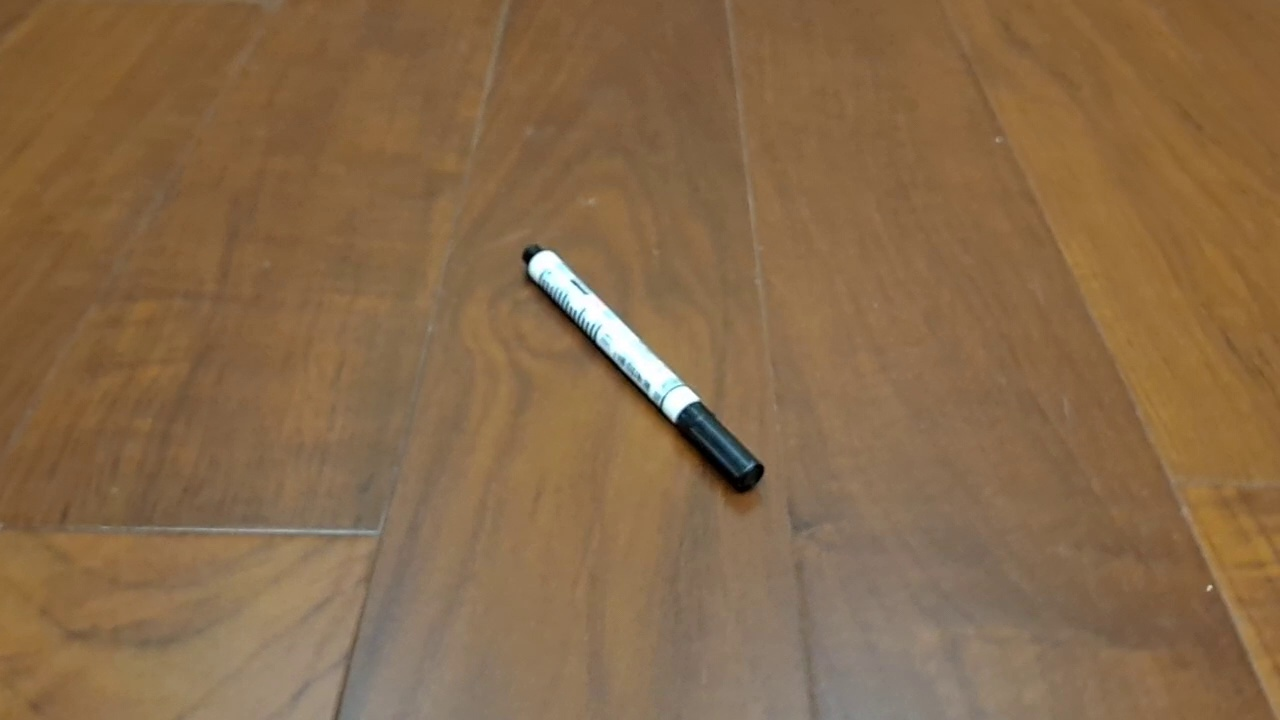pen: (521, 243, 765, 495)
